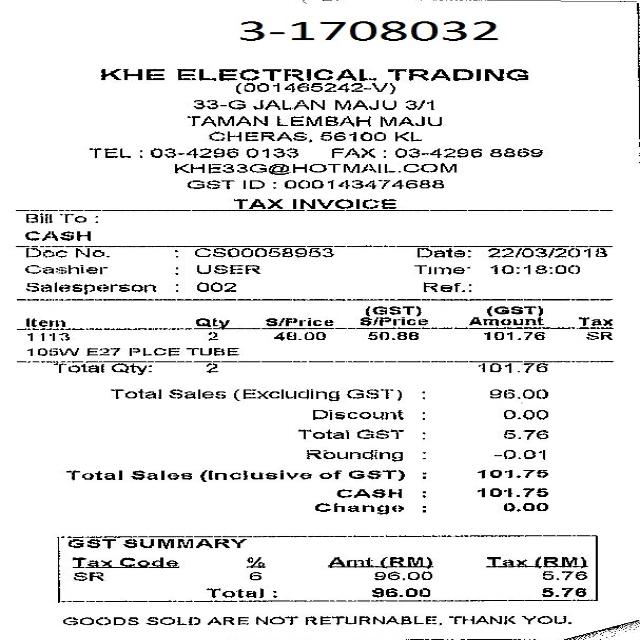text: (240, 19, 496, 39), (173, 161, 454, 173), (174, 67, 373, 79), (234, 82, 393, 94), (22, 281, 152, 294), (385, 67, 524, 79), (198, 468, 309, 481), (282, 179, 439, 188), (192, 247, 331, 257), (302, 448, 400, 461), (230, 387, 336, 399), (119, 538, 245, 548), (326, 555, 429, 567), (302, 615, 438, 624), (487, 247, 605, 257), (314, 501, 402, 513), (290, 198, 394, 208), (208, 130, 310, 140), (273, 115, 368, 125), (310, 408, 400, 418), (391, 146, 479, 156), (148, 146, 234, 156), (24, 264, 106, 274), (487, 263, 577, 272), (187, 115, 266, 125), (356, 316, 427, 326), (206, 587, 277, 597), (250, 98, 320, 108), (477, 362, 547, 372), (475, 467, 545, 477), (346, 468, 403, 480), (263, 316, 331, 326), (316, 130, 383, 140), (21, 230, 88, 240), (467, 315, 541, 324), (343, 387, 398, 399), (446, 614, 512, 624), (335, 486, 400, 496), (485, 304, 543, 315), (100, 68, 162, 78), (331, 98, 393, 108), (378, 115, 438, 125), (130, 469, 190, 479), (486, 388, 545, 398), (370, 587, 429, 597), (193, 263, 257, 272), (410, 263, 467, 273), (62, 470, 119, 480), (373, 570, 430, 580), (364, 304, 420, 314), (166, 388, 222, 398), (414, 246, 468, 256), (111, 362, 152, 375), (60, 616, 135, 623), (119, 556, 177, 565), (243, 146, 295, 156), (190, 98, 241, 108), (51, 362, 102, 372), (296, 428, 346, 438), (492, 448, 542, 458), (535, 556, 585, 566), (480, 330, 542, 338), (231, 198, 280, 208), (108, 388, 157, 398), (475, 488, 545, 495), (65, 538, 113, 548), (421, 280, 468, 290), (271, 330, 323, 339), (500, 408, 545, 418), (500, 428, 545, 438), (541, 586, 586, 596), (330, 146, 373, 156), (542, 570, 585, 580), (86, 146, 128, 156), (22, 247, 64, 257), (487, 148, 539, 156), (185, 347, 237, 355), (70, 556, 111, 566), (355, 428, 400, 437), (500, 502, 545, 511), (23, 316, 63, 326), (25, 347, 75, 355), (484, 556, 524, 566), (365, 330, 414, 338), (127, 347, 176, 355), (184, 180, 232, 188), (196, 280, 234, 290), (144, 616, 198, 623), (25, 332, 70, 340), (521, 615, 564, 623), (194, 316, 228, 326), (75, 247, 103, 258), (402, 98, 432, 108), (204, 616, 246, 623), (255, 616, 296, 623), (24, 211, 51, 221), (577, 317, 610, 325), (83, 347, 116, 355), (57, 213, 85, 222), (392, 130, 418, 139), (318, 470, 340, 480), (584, 330, 611, 338), (70, 572, 100, 579), (240, 179, 262, 188), (244, 555, 262, 566), (203, 361, 215, 371), (247, 571, 258, 579), (206, 330, 215, 339)
